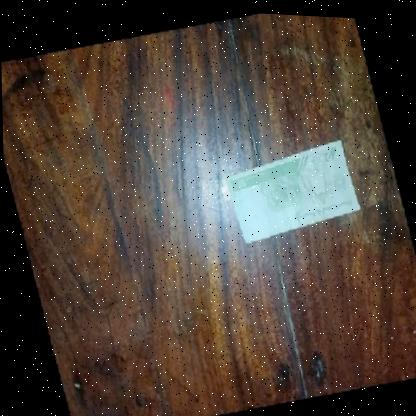vef_back: (219, 129, 364, 247)
